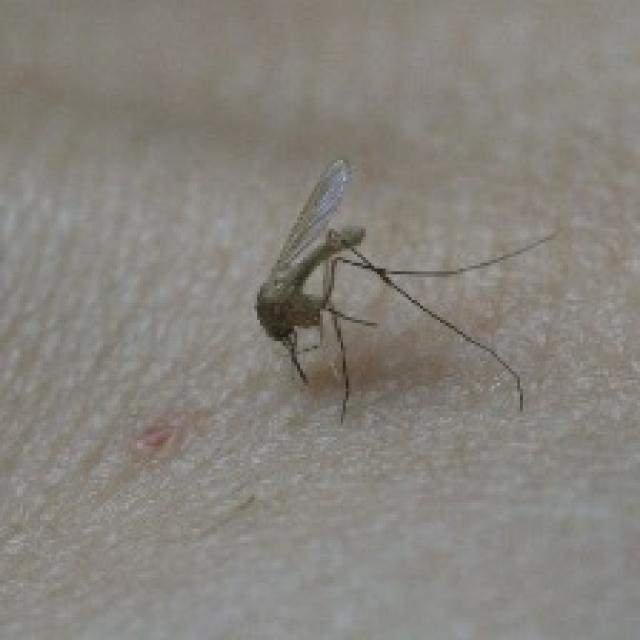culex: (252, 154, 554, 423)
